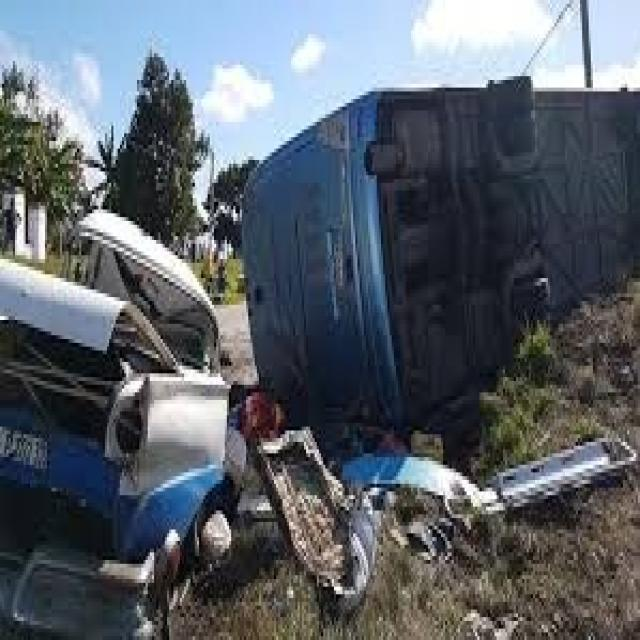accident: (229, 112, 640, 396), (0, 164, 226, 588)
